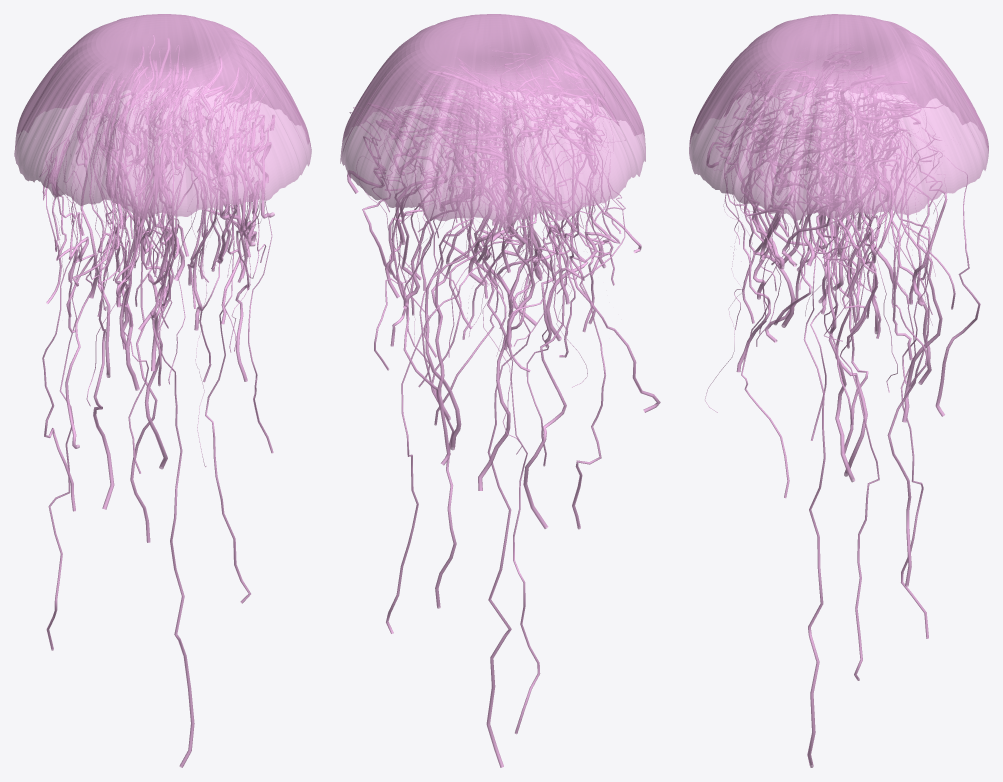
The model's file is jellyfish.glb.
The picture shows the model from 3 angles, left to right: view 1: azimuth 30°, elevation 25°; view 2: azimuth 150°, elevation 25°; view 3: azimuth 270°, elevation 25°; orthographic projection. The views are drawn at different scales.
Visible parts, largest first — view 1: Cube.002; view 2: Cube.002; view 3: Cube.002.
Boxes of the visible parts, <box> form: Cube.002: <box>14,14,311,767</box>; Cube.002: <box>340,14,660,767</box>; Cube.002: <box>689,14,988,767</box>.
Bounding box in the file's own units: 2 × 5.31 × 2.
